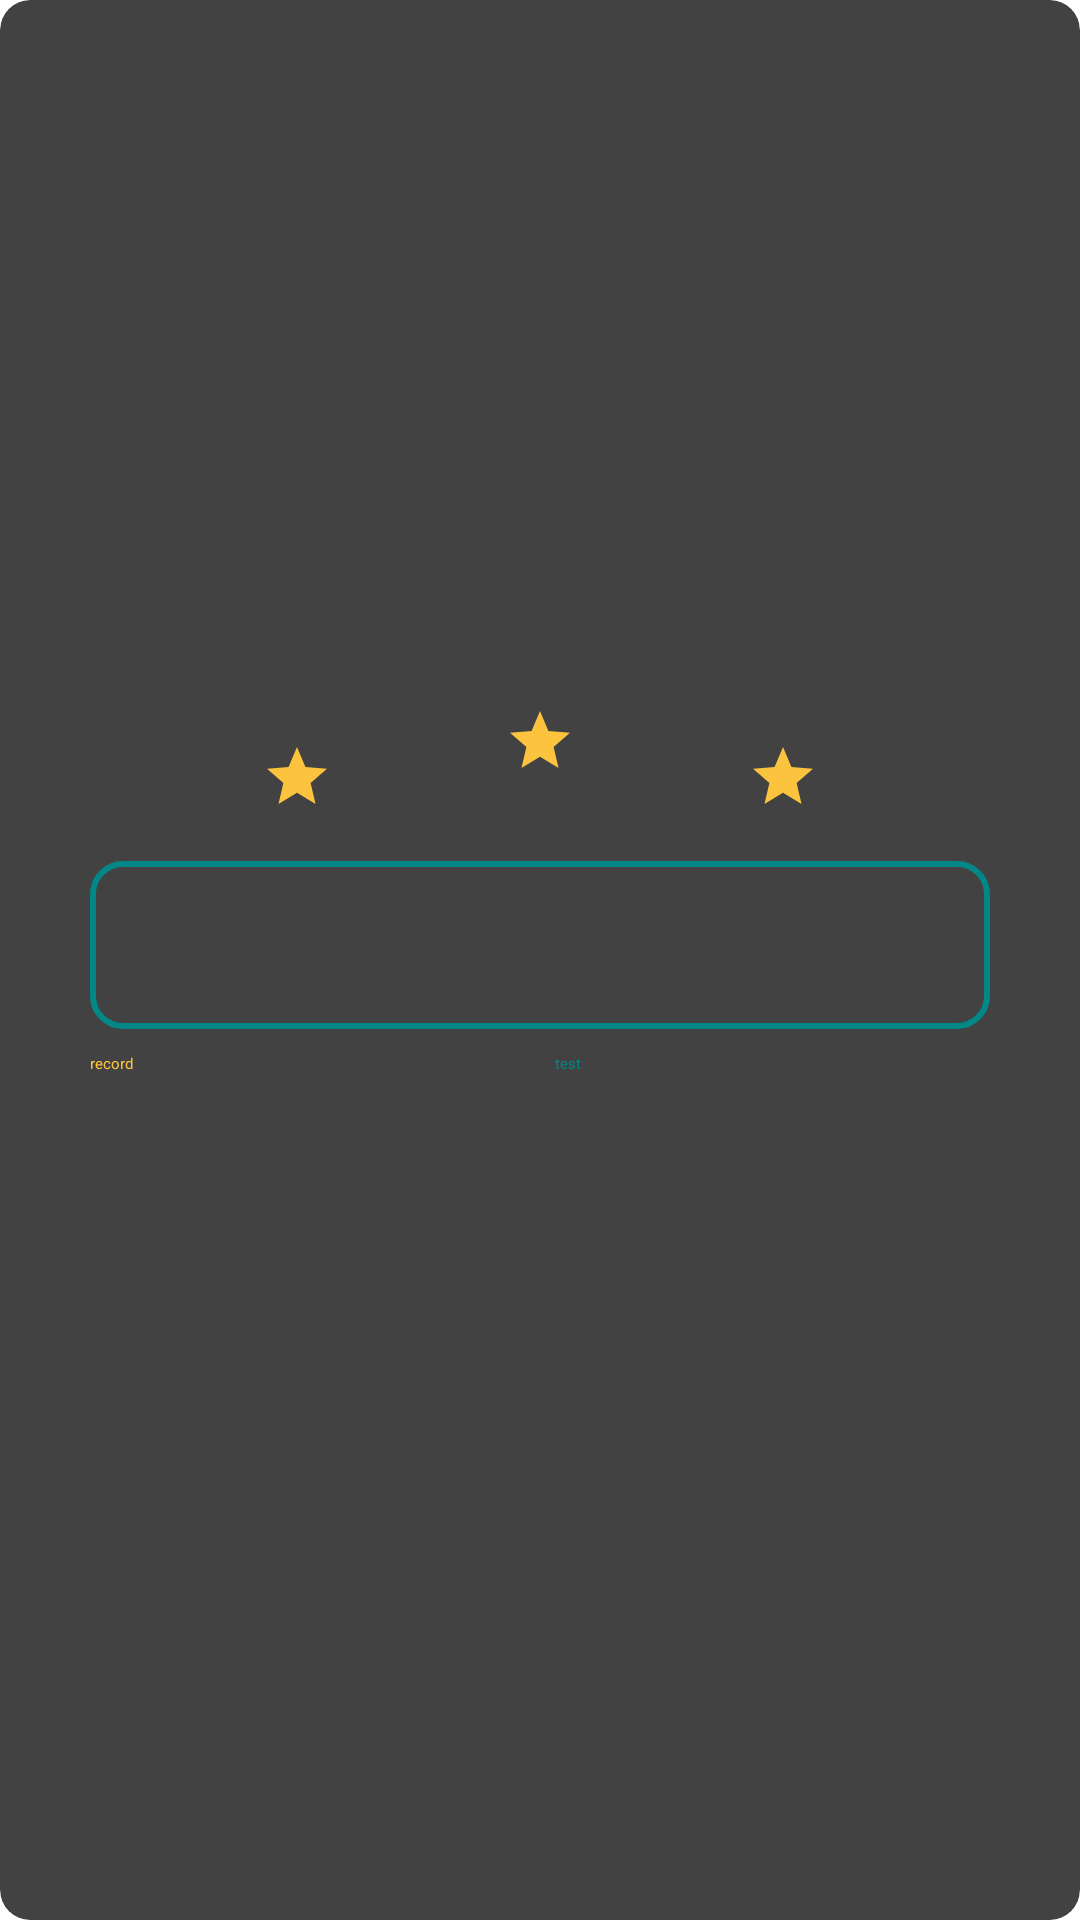

Named icons in this screenshot (1080 × 1920) and their centers, (x,y):
star: (540,739), (297,775), (783,775)
